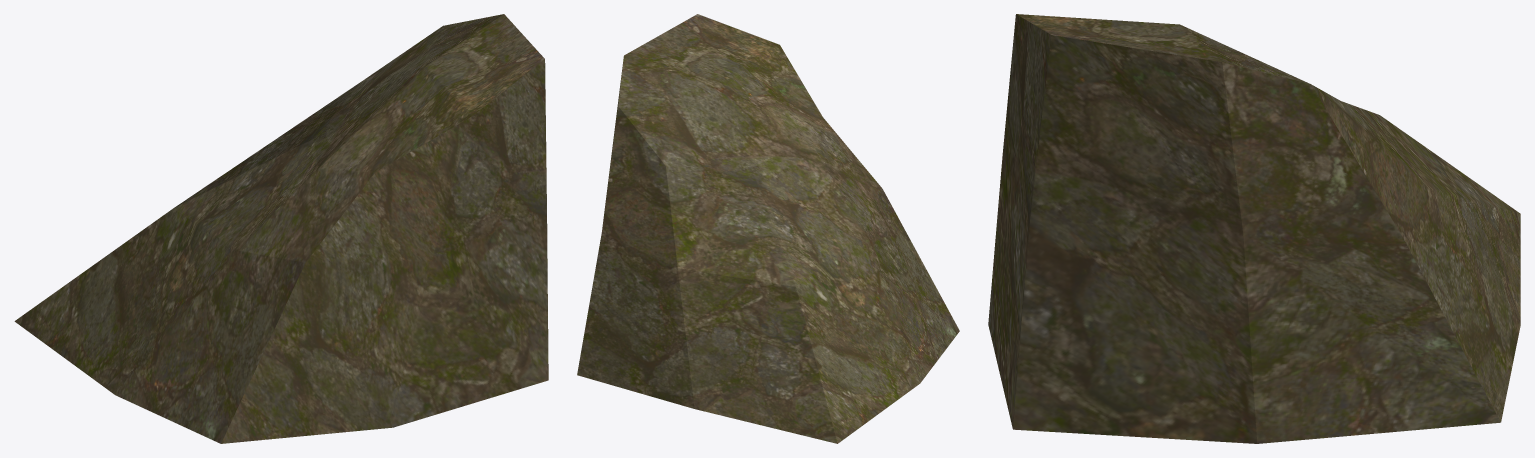
File: rubble_GEO.fbx
3 renders of one model, left to right at view 1: azimuth 30°, elevation 25°; view 2: azimuth 150°, elevation 25°; view 3: azimuth 270°, elevation 25°, orthographic. The views are drawn at different scales.
Visible parts, largest first — view 1: rubble_GEO; view 2: rubble_GEO; view 3: rubble_GEO.
Boxes of the visible parts, <box> form: rubble_GEO: <box>14,14,548,443</box>; rubble_GEO: <box>577,14,959,443</box>; rubble_GEO: <box>988,14,1520,443</box>.
Size of the model in its own units: 4.3 by 3.38 by 4.04.
